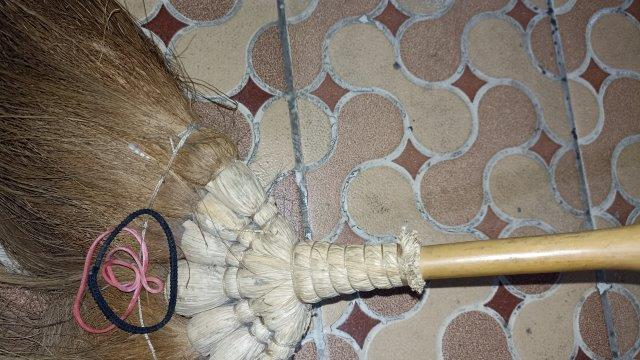karet: (74, 208, 177, 334)
